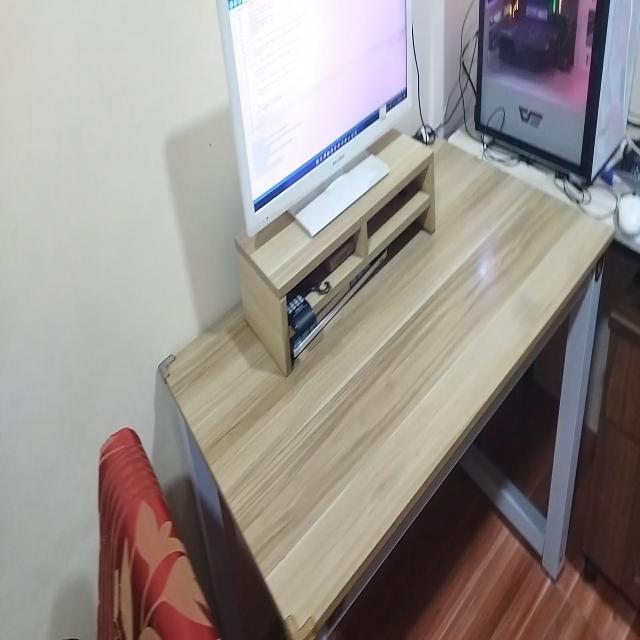table: (162, 135, 596, 640)
